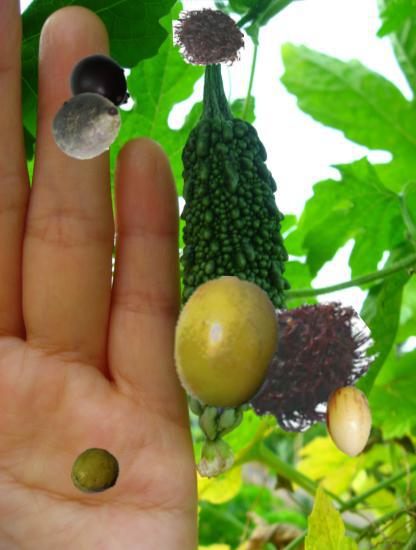Beetroot: (51, 91, 123, 163)
Eggplant: (67, 52, 132, 117)
Guava: (70, 447, 121, 498)
Maracuja: (159, 276, 298, 415)
Pepino: (313, 387, 385, 459)
Rambutan: (229, 289, 377, 437), (173, 2, 244, 73)
